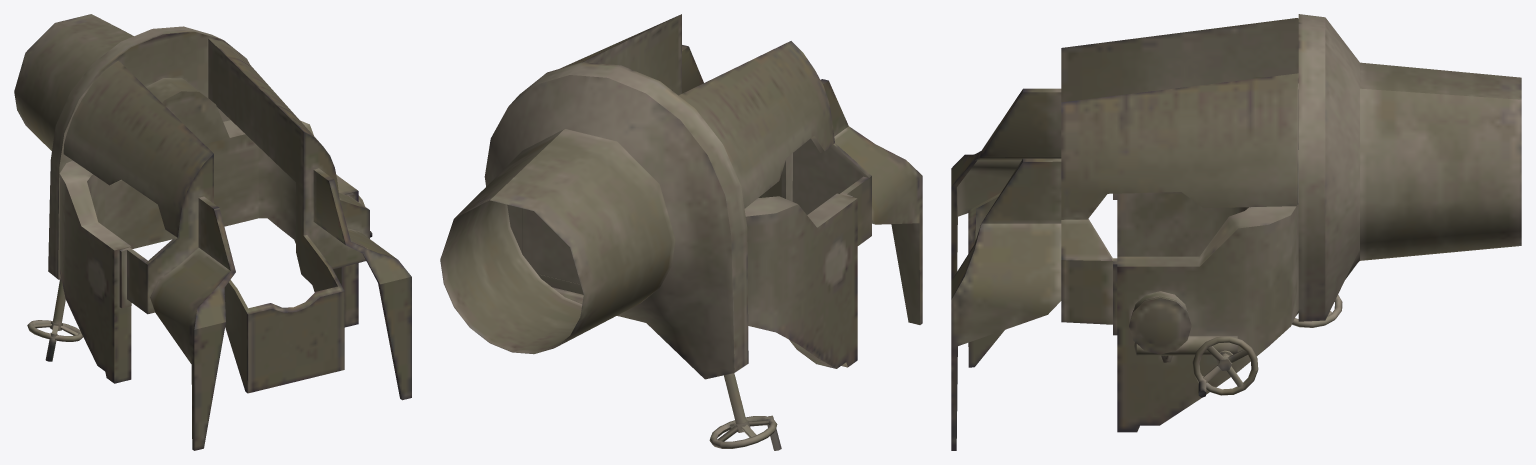
Rendered from Turret_02.glb.
The picture shows the model from 3 angles, left to right: view 1: azimuth 30°, elevation 25°; view 2: azimuth 150°, elevation 25°; view 3: azimuth 270°, elevation 25°; orthographic projection. The views are drawn at different scales.
Parts seen in each view (by area): view 1: set_0_group_0; view 2: set_0_group_0; view 3: set_0_group_0.
Boxes of the visible parts, left/top/right/bottom form: set_0_group_0: left=14, top=14, right=411, bottom=450; set_0_group_0: left=440, top=14, right=922, bottom=450; set_0_group_0: left=951, top=14, right=1521, bottom=450.
Size of the model in its own units: 0.8098 by 0.7612 by 1.08.
1 material, 1 textured.
